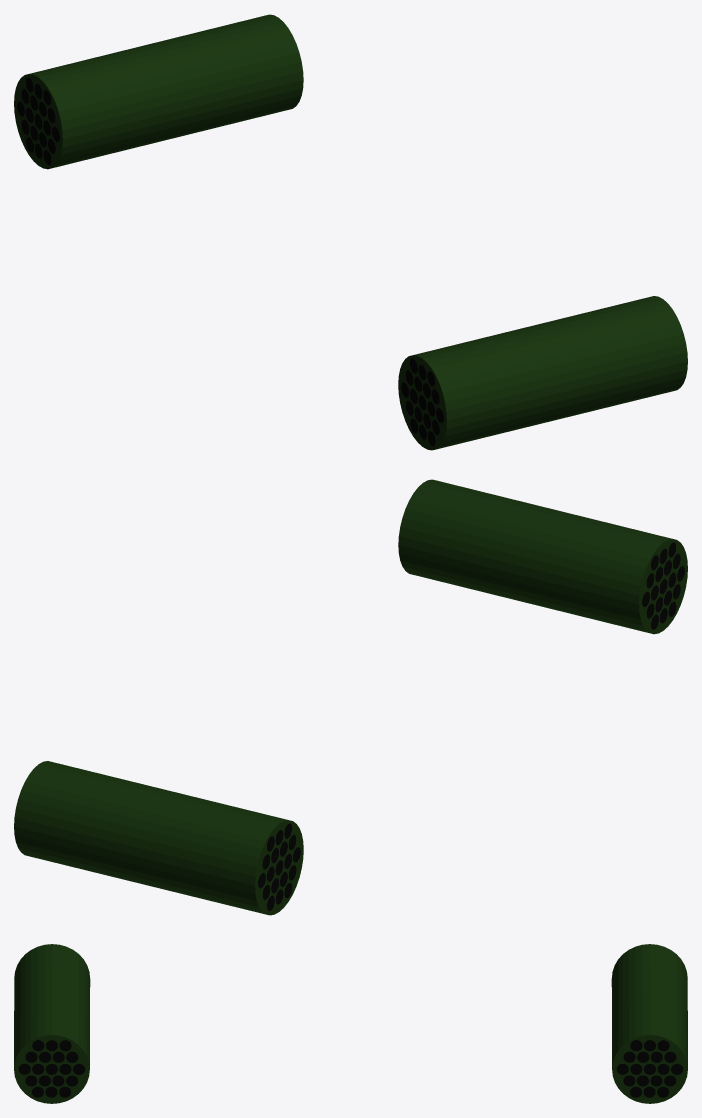
The picture shows the model from 3 angles, top to bottom: view 1: azimuth 30°, elevation 25°; view 2: azimuth 150°, elevation 25°; view 3: azimuth 270°, elevation 25°; orthographic projection. The views are drawn at different scales.
Visible parts, largest first — view 1: 円柱.002, 円柱.056; view 2: 円柱.056, 円柱.002; view 3: 円柱.056, 円柱.002.
Part boxes in pixels (x1,y1,x2,y2): 円柱.002: [398, 296, 687, 450]; 円柱.056: [14, 14, 303, 169]; 円柱.056: [14, 761, 303, 915]; 円柱.002: [398, 479, 687, 634]; 円柱.056: [611, 944, 687, 1103]; 円柱.002: [14, 944, 90, 1103].
Bounding box in the file's own units: 1.44 × 0.5077 × 4.48.
1 material, 1 textured.
